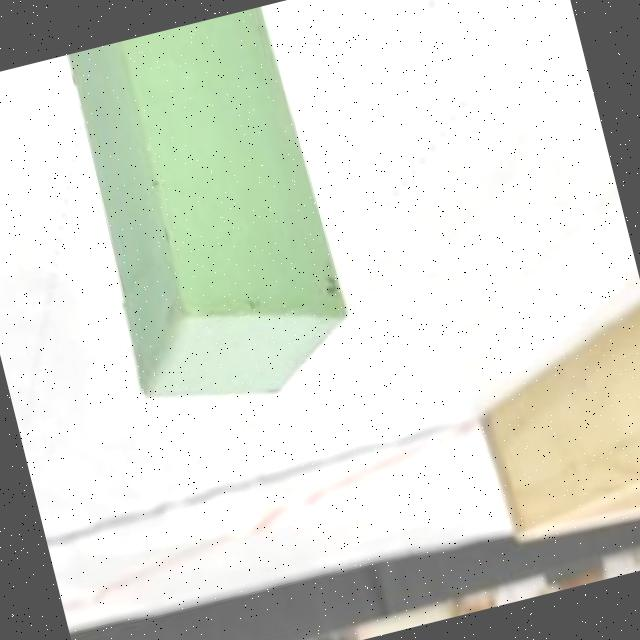greenbox: (57, 1, 370, 432)
